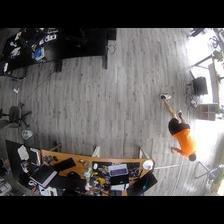fall: (159, 94, 197, 161)
